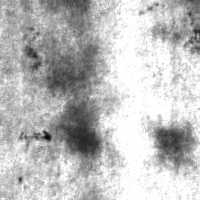patches: (45, 45, 100, 97), (58, 101, 104, 159), (146, 120, 193, 166)
